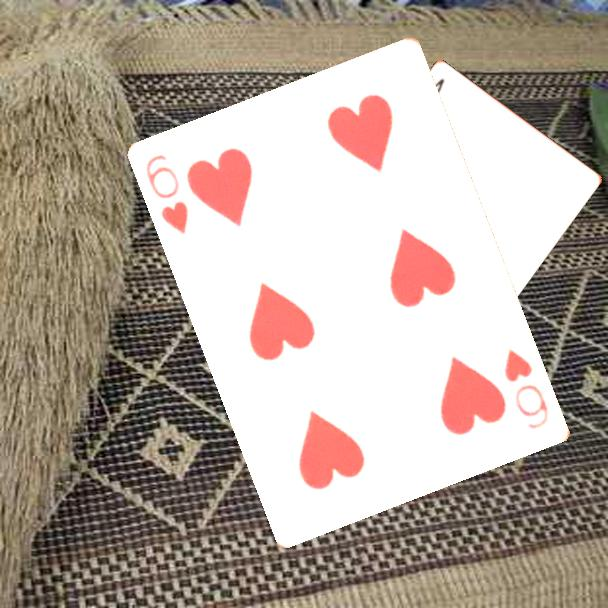h06: (501, 345, 552, 432), (143, 151, 192, 237)
